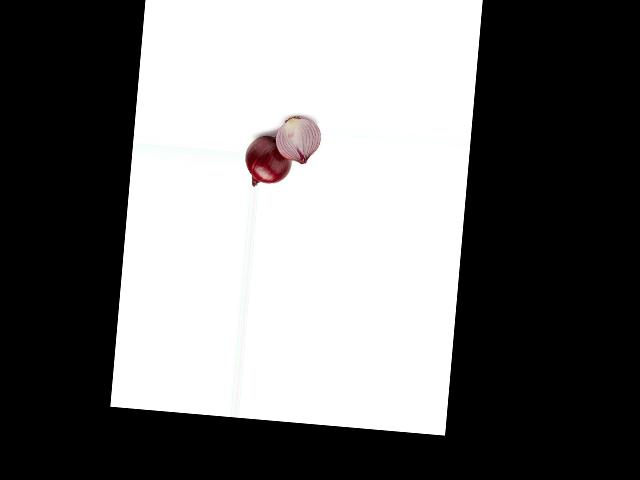onion: (277, 116, 321, 166)
